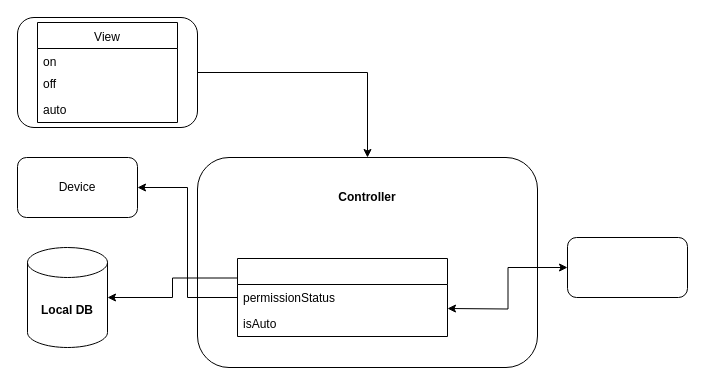
This 705x385 diagram has some shape labels left out. Each missing label, with the box of its shape:
App permission status list: (236, 258, 448, 336)
Network module: (566, 236, 688, 298)
